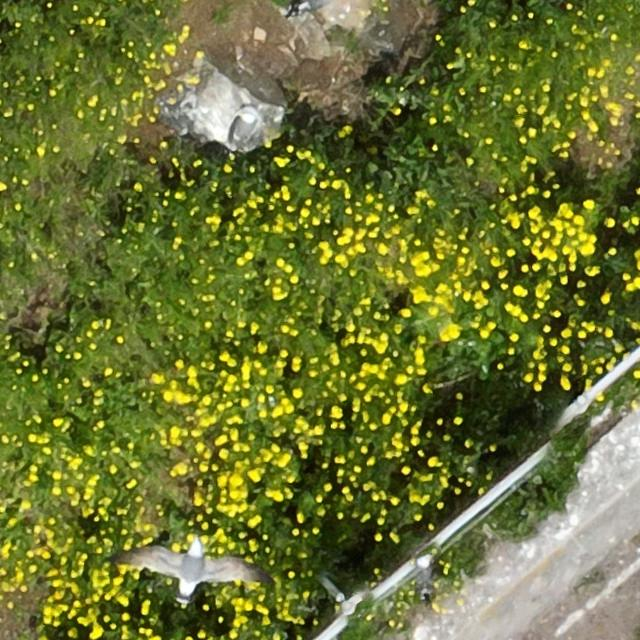F: (139, 546, 242, 600)
umineko: (228, 106, 259, 156), (417, 559, 431, 589), (264, 36, 296, 46)
